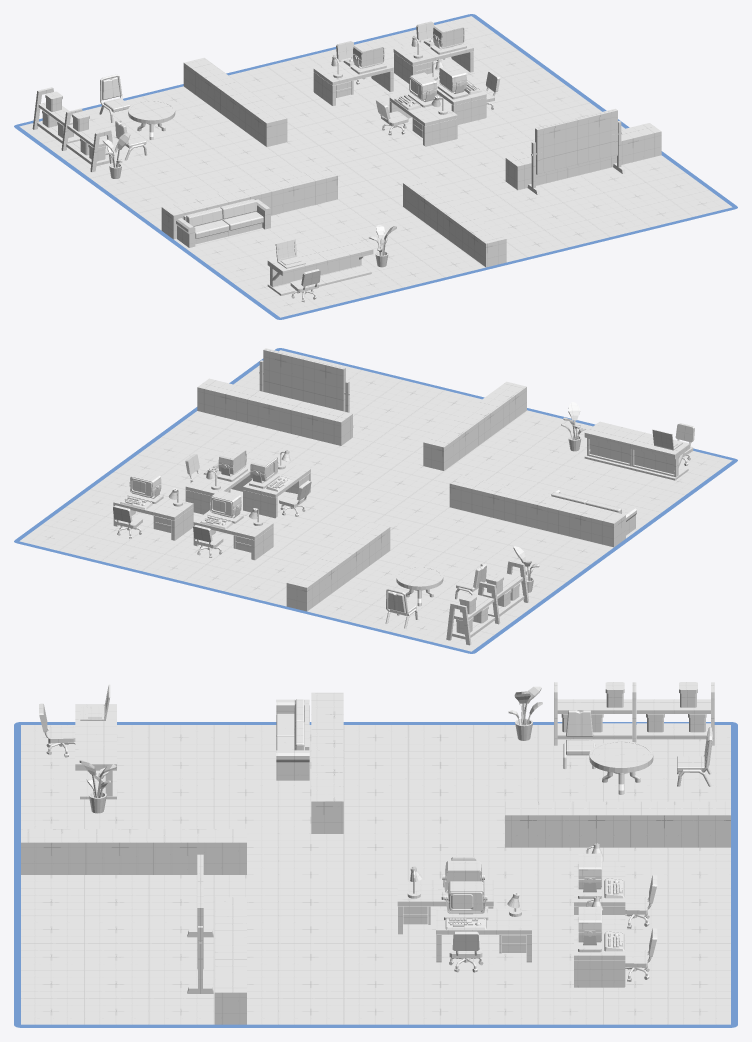
File: office.glb
The picture shows the model from 3 angles, top to bottom: view 1: azimuth 30°, elevation 25°; view 2: azimuth 150°, elevation 25°; view 3: azimuth 270°, elevation 25°; orthographic projection. The views are drawn at different scales.
Parts seen in each view (by area): view 1: static-floor, colored-border, static-board, static-cabinet, static-counter, static-sofa, static-work-desk.001, static-work-desk.003, static-work-desk.002, static-cafe-table, static-work-desk.004, static-pc (+8 smaller); view 2: static-floor, colored-border, static-board, static-counter, static-cabinet, static-work-desk.002, static-work-desk.003, static-work-desk.001, static-work-desk.004, static-pc.002, static-pc.001, static-cafe-table (+8 smaller); view 3: static-floor, colored-border, static-cabinet, static-counter, static-sofa, static-work-desk.002, static-work-desk.004, static-work-desk.003, static-pc.003, static-cafe-table, static-pc.002, static-pc.001 (+11 smaller).
Part boxes in pixels (bbox=[...]): static-floor: bbox=[19, 16, 732, 317]; colored-border: bbox=[14, 14, 737, 319]; static-board: bbox=[527, 108, 625, 194]; static-cabinet: bbox=[32, 87, 114, 172]; static-counter: bbox=[267, 238, 373, 295]; static-sofa: bbox=[176, 199, 271, 247]; static-work-desk.001: bbox=[313, 61, 393, 105]; static-work-desk.003: bbox=[389, 92, 457, 146]; static-work-desk.002: bbox=[393, 41, 473, 83]; static-cafe-table: bbox=[128, 100, 175, 139]; static-work-desk.004: bbox=[427, 71, 486, 124]; static-pc: bbox=[394, 72, 436, 110]; static-floor: bbox=[19, 350, 732, 651]; colored-border: bbox=[14, 348, 737, 653]; static-board: bbox=[259, 348, 353, 427]; static-counter: bbox=[584, 421, 690, 480]; static-cabinet: bbox=[446, 560, 528, 645]; static-work-desk.002: bbox=[113, 490, 193, 540]; static-work-desk.003: bbox=[243, 461, 310, 518]; static-work-desk.001: bbox=[193, 510, 273, 560]; static-work-desk.004: bbox=[185, 466, 252, 514]; static-pc.002: bbox=[120, 470, 163, 509]; static-pc.001: bbox=[200, 490, 243, 529]; static-cafe-table: bbox=[396, 566, 443, 606]; static-floor: bbox=[21, 692, 730, 1024]; colored-border: bbox=[14, 722, 737, 1027]; static-cabinet: bbox=[554, 682, 714, 745]; static-counter: bbox=[75, 704, 116, 799]; static-sofa: bbox=[276, 699, 309, 780]; static-work-desk.002: bbox=[574, 915, 625, 987]; static-work-desk.004: bbox=[436, 908, 531, 962]; static-work-desk.003: bbox=[397, 880, 493, 934]; static-pc.003: bbox=[444, 881, 488, 929]; static-cafe-table: bbox=[589, 741, 653, 794]; static-pc.002: bbox=[578, 907, 624, 952]; static-pc.001: bbox=[578, 853, 624, 898].
Size of what is drawn, in the model's own units: 10.2 by 1.31 by 10.2.
Materials: 3 (2 with a texture image).
